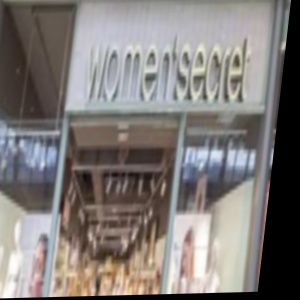women_secret: (181, 0, 292, 55)
